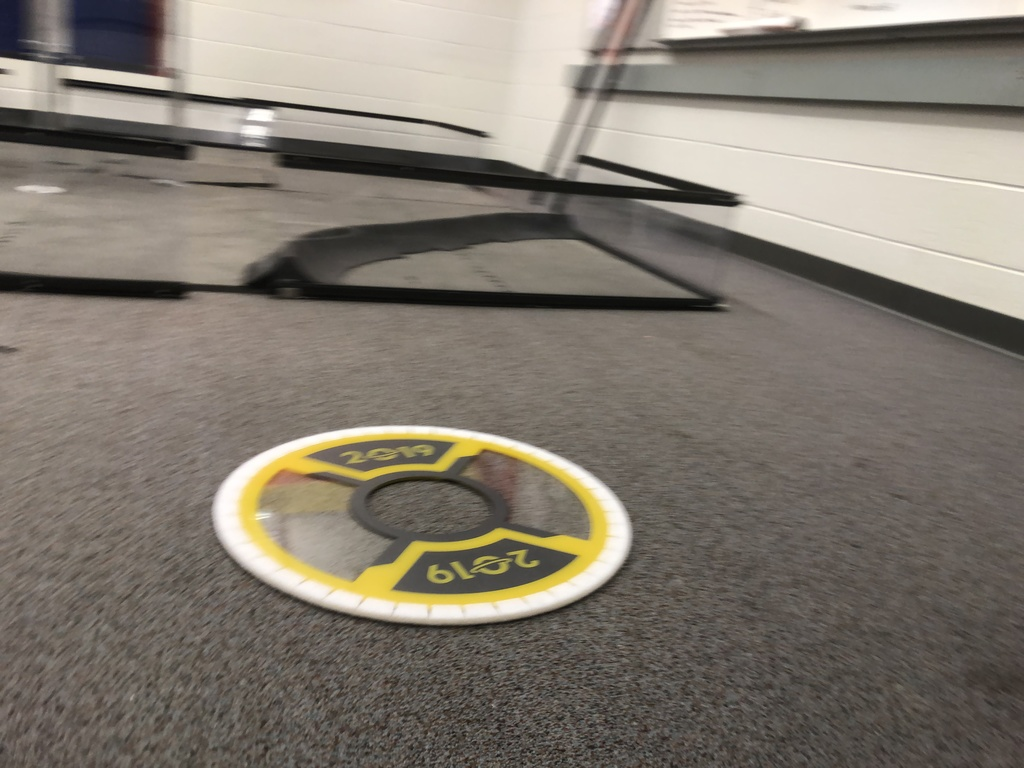hatch_panel: (207, 417, 642, 632)
